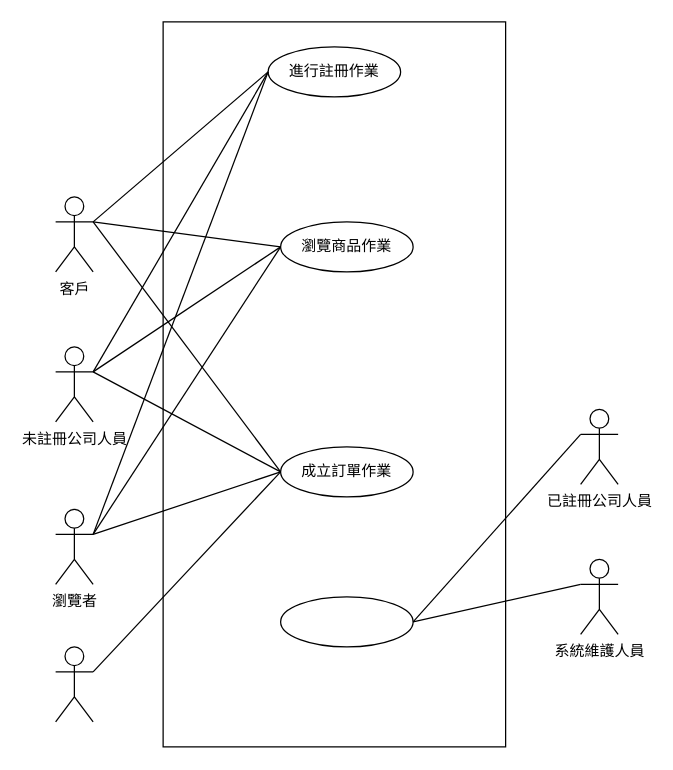
This 673x770 diagram has some shape labels left out. The shapes that lost their labels are listed below. From the top down, each one's centre as x and y in pixels, then its label:
At [346,621]: "訂單管理作業".
At [73,684]: "白公主銀行".
